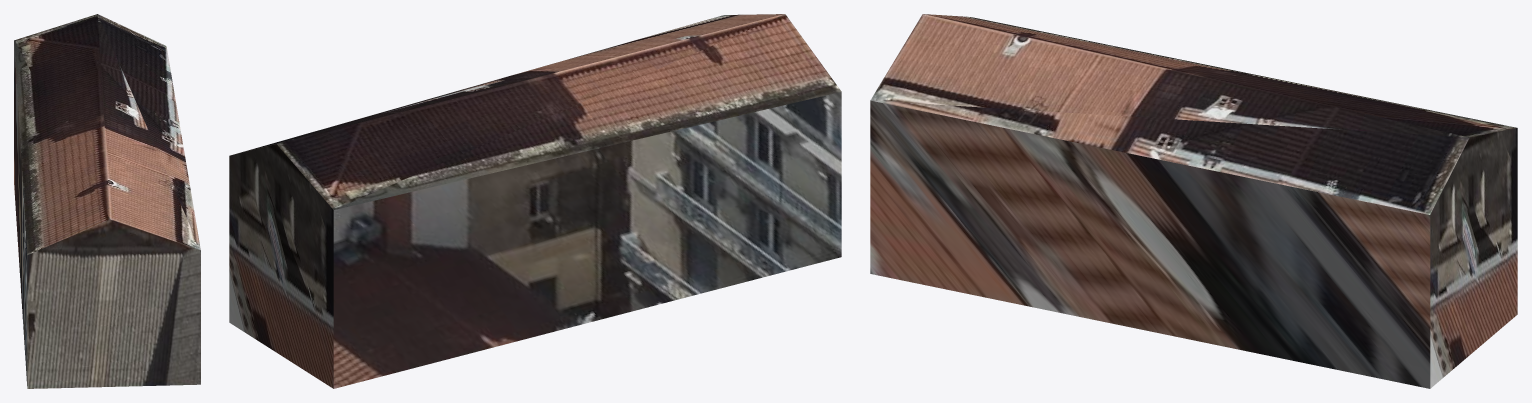
3 renders of one model, left to right at view 1: azimuth 30°, elevation 25°; view 2: azimuth 150°, elevation 25°; view 3: azimuth 270°, elevation 25°, orthographic. The views are drawn at different scales.
Visible parts, largest first — view 1: Z_UP; view 2: Z_UP; view 3: Z_UP.
Part boxes in pixels (<box>): Z_UP: <box>14,14,200,388</box>; Z_UP: <box>229,14,841,388</box>; Z_UP: <box>870,14,1517,388</box>.
Bounding box in the file's own units: 17.9 × 9.1 × 24.53.
2 materials, 1 textured.
